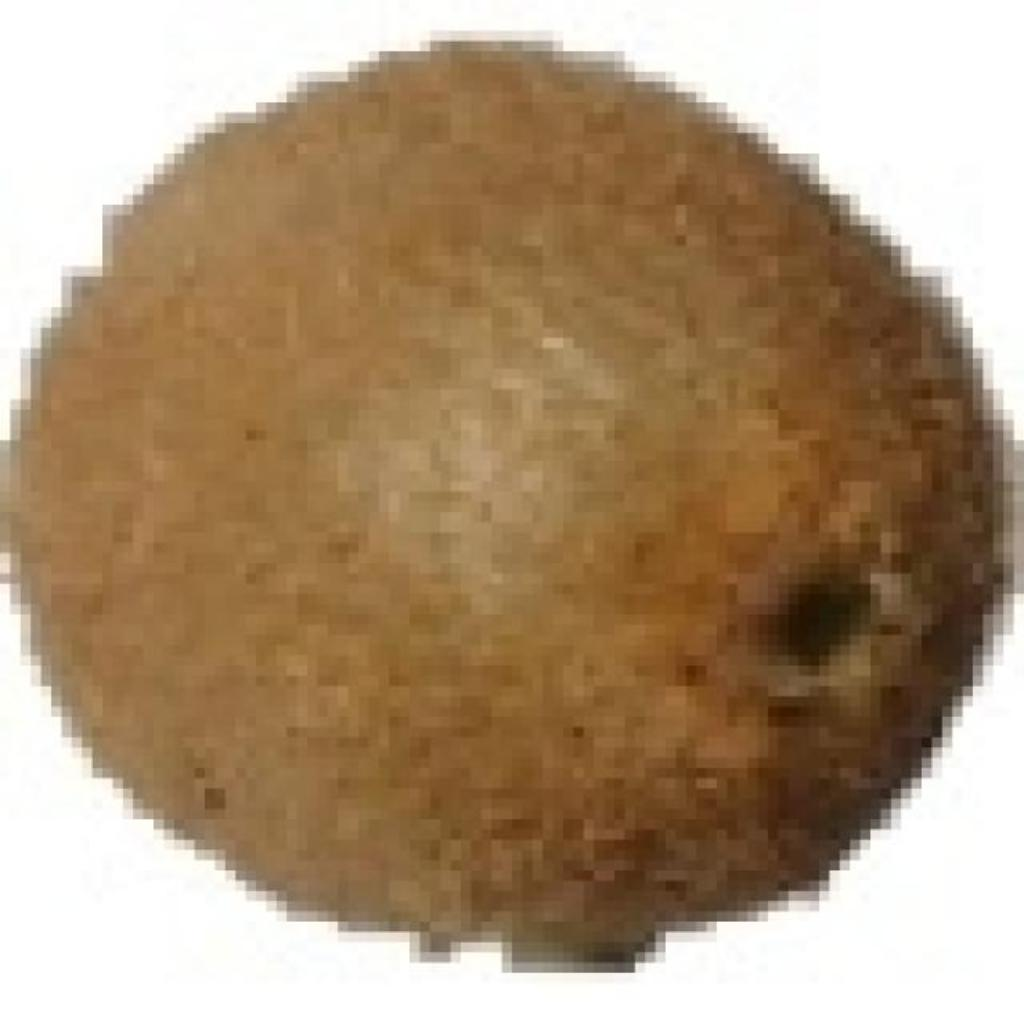kiwi: (10, 31, 983, 942)
